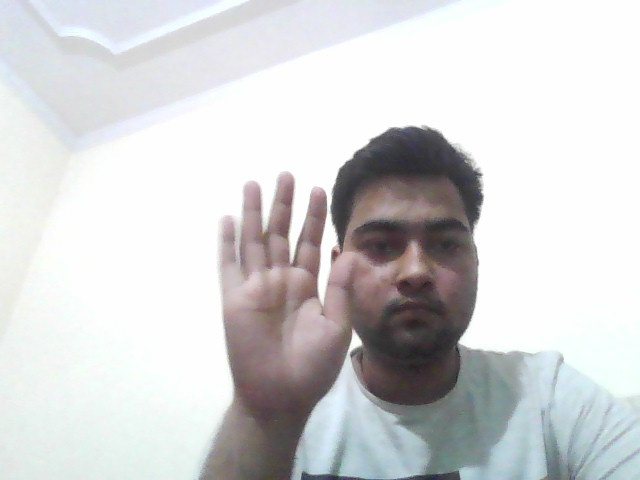Hello: (200, 167, 359, 412)
